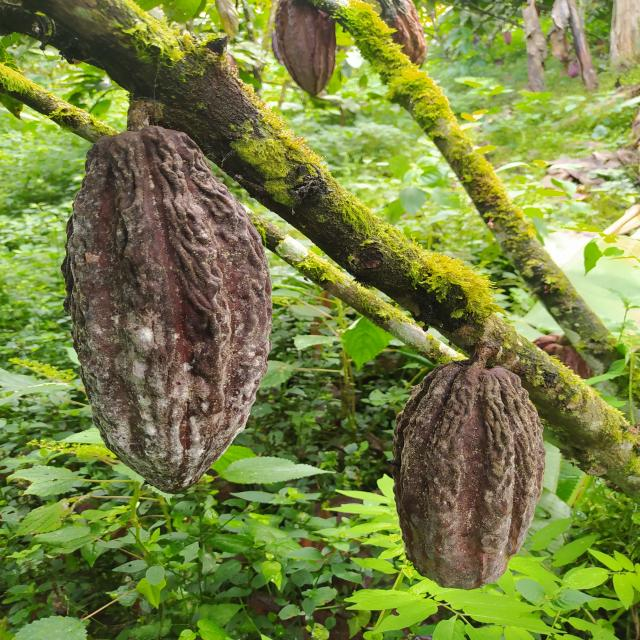Fitoftora: (62, 126, 274, 494), (392, 362, 545, 588)
